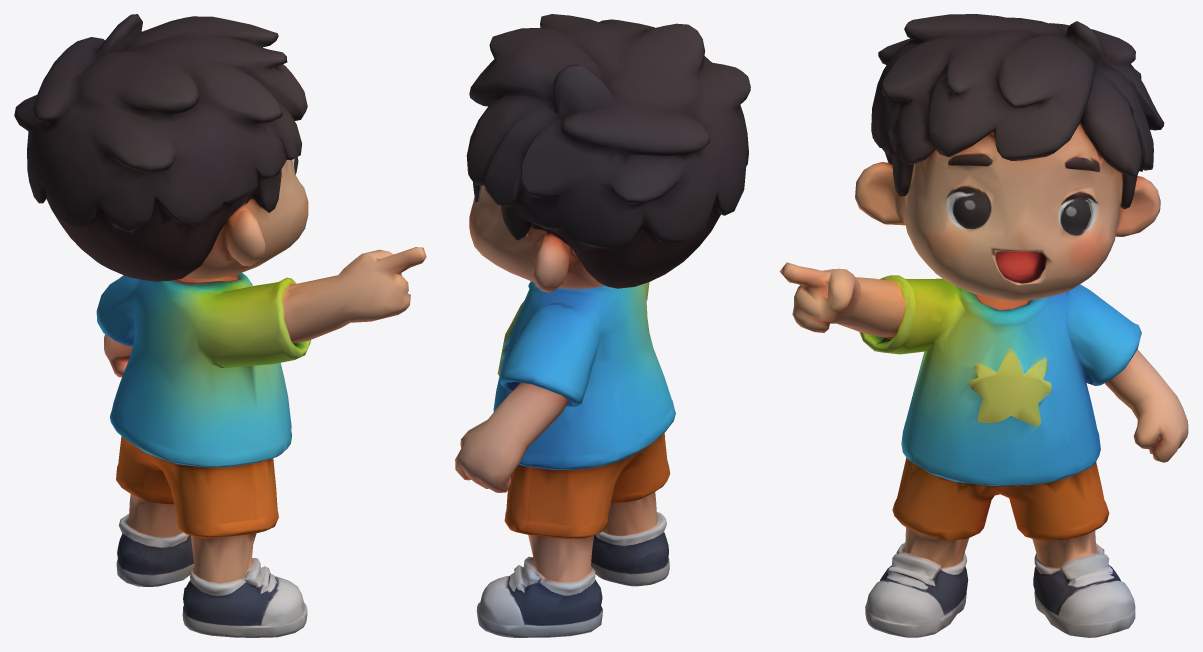
File: child_2years.glb
3 renders of one model, left to right at view 1: azimuth 30°, elevation 25°; view 2: azimuth 150°, elevation 25°; view 3: azimuth 270°, elevation 25°, orthographic. The views are drawn at different scales.
Visible parts, largest first — view 1: node_be7169e2-cf57-42e6-ab36-f7bb0b9222ad; view 2: node_be7169e2-cf57-42e6-ab36-f7bb0b9222ad; view 3: node_be7169e2-cf57-42e6-ab36-f7bb0b9222ad.
Part boxes in pixels (x1,y1,x2,y2): node_be7169e2-cf57-42e6-ab36-f7bb0b9222ad: (14, 14, 426, 637); node_be7169e2-cf57-42e6-ab36-f7bb0b9222ad: (455, 14, 750, 637); node_be7169e2-cf57-42e6-ab36-f7bb0b9222ad: (779, 14, 1188, 637).
Size of the model in its own units: 0.5039 by 1 by 0.6477.
Materials: 1 (1 with a texture image).
